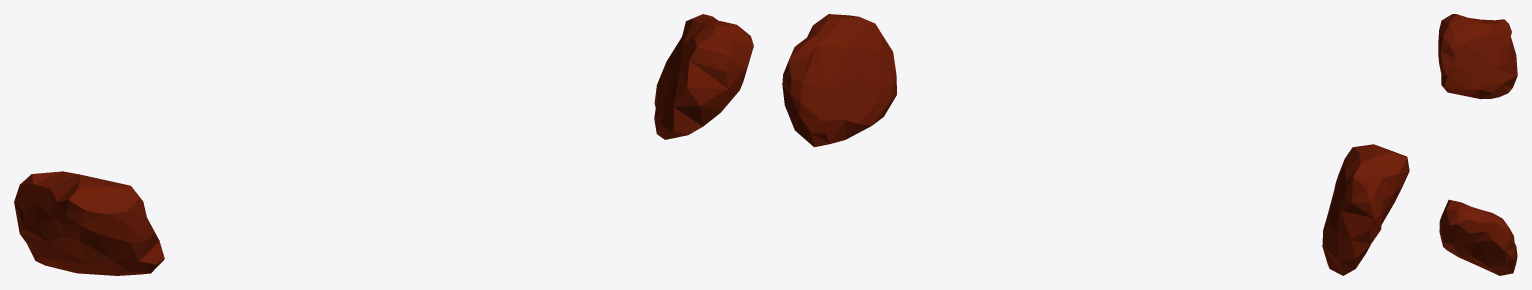
File: 61-ELC-entorhinal cortex, lateral part, caudal division-('0.4980', '0.1137', '0.0000').obj
3 views of the same model, side by side, from view 1: azimuth 30°, elevation 25°; view 2: azimuth 150°, elevation 25°; view 3: azimuth 270°, elevation 25° (orthographic). The views are drawn at different scales.
Size of the model in its own units: 129 by 21.25 by 20.7.
